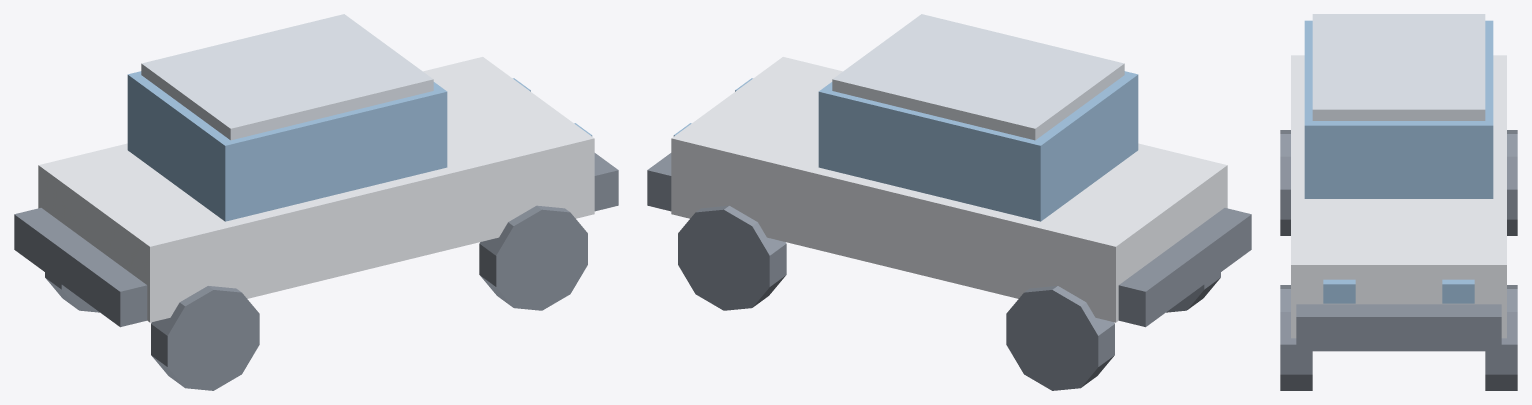
File: car.fbx
The picture shows the model from 3 angles, left to right: view 1: azimuth 30°, elevation 25°; view 2: azimuth 150°, elevation 25°; view 3: azimuth 270°, elevation 25°; orthographic projection. The views are drawn at different scales.
Visible parts, largest first — view 1: car; view 2: car; view 3: car.
Part boxes in pixels (x1,y1,x2,y2): car: [14, 14, 618, 390]; car: [647, 14, 1251, 390]; car: [1280, 14, 1517, 390].
Size of the model in its own units: 1400 by 648 by 597.
